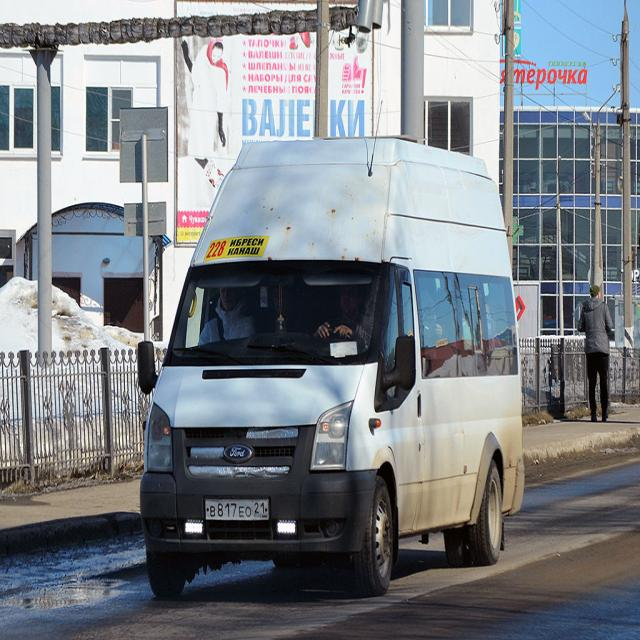number-of-bus: (205, 229, 230, 264)
